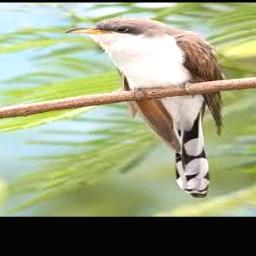Cuckoo: (66, 17, 224, 197)
